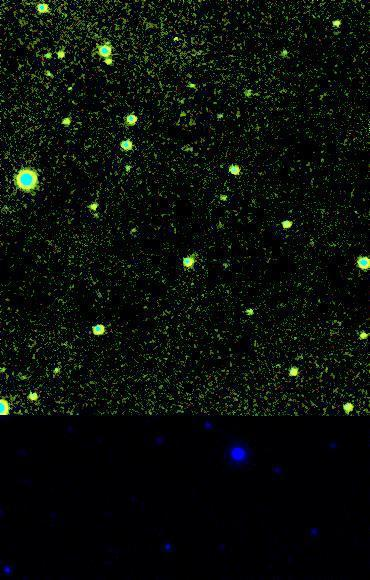star: (165, 25, 195, 55)
